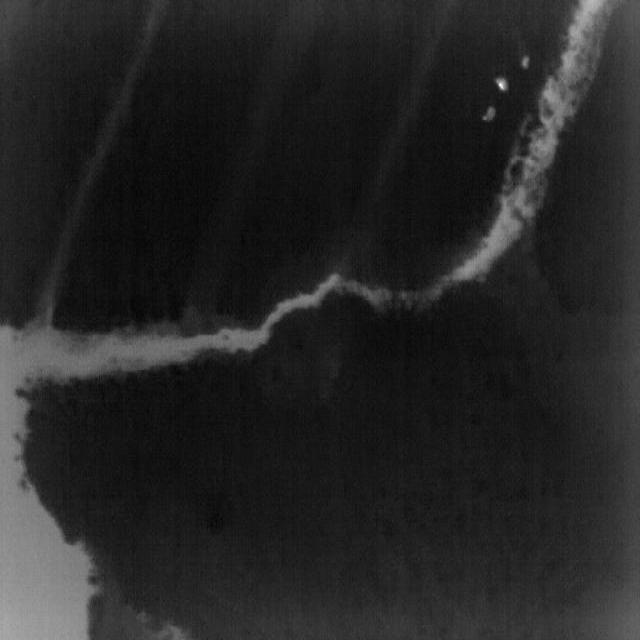deer: (481, 107, 497, 124), (494, 76, 510, 92), (520, 55, 530, 71)
